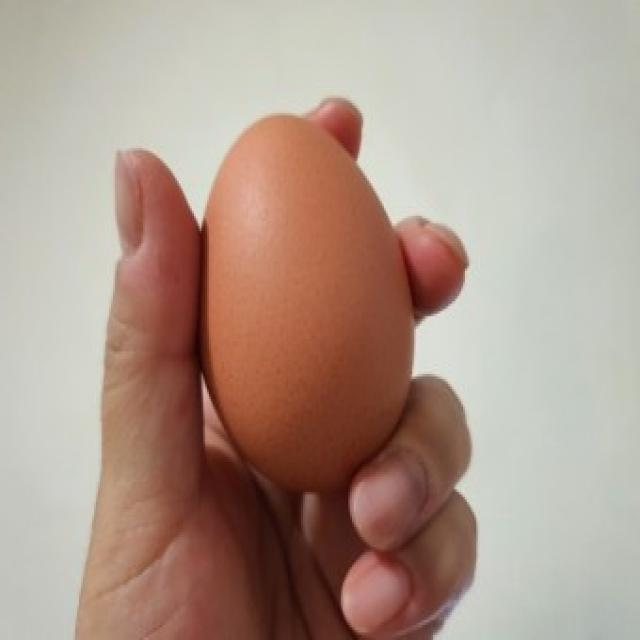eggs: (183, 110, 420, 484)
